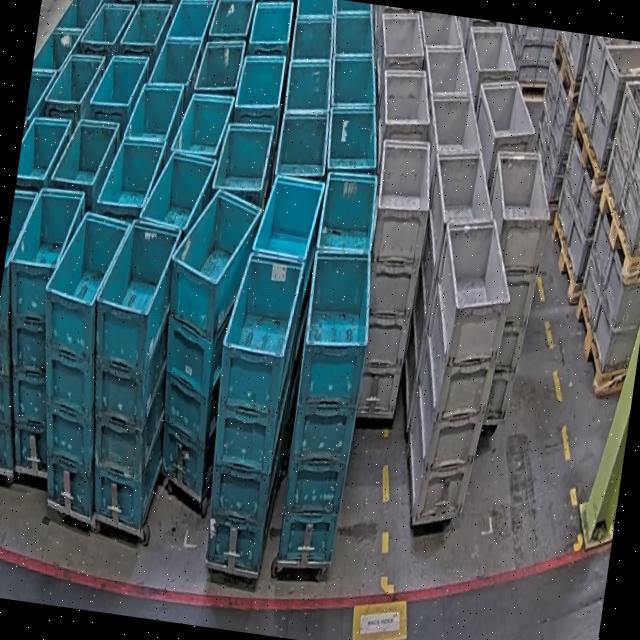4G: (396, 211, 521, 529), (458, 146, 560, 425), (345, 134, 439, 420)
B4: (64, 211, 197, 532), (138, 182, 266, 500), (191, 247, 310, 575), (14, 206, 134, 521), (270, 241, 382, 570), (0, 182, 94, 475)
